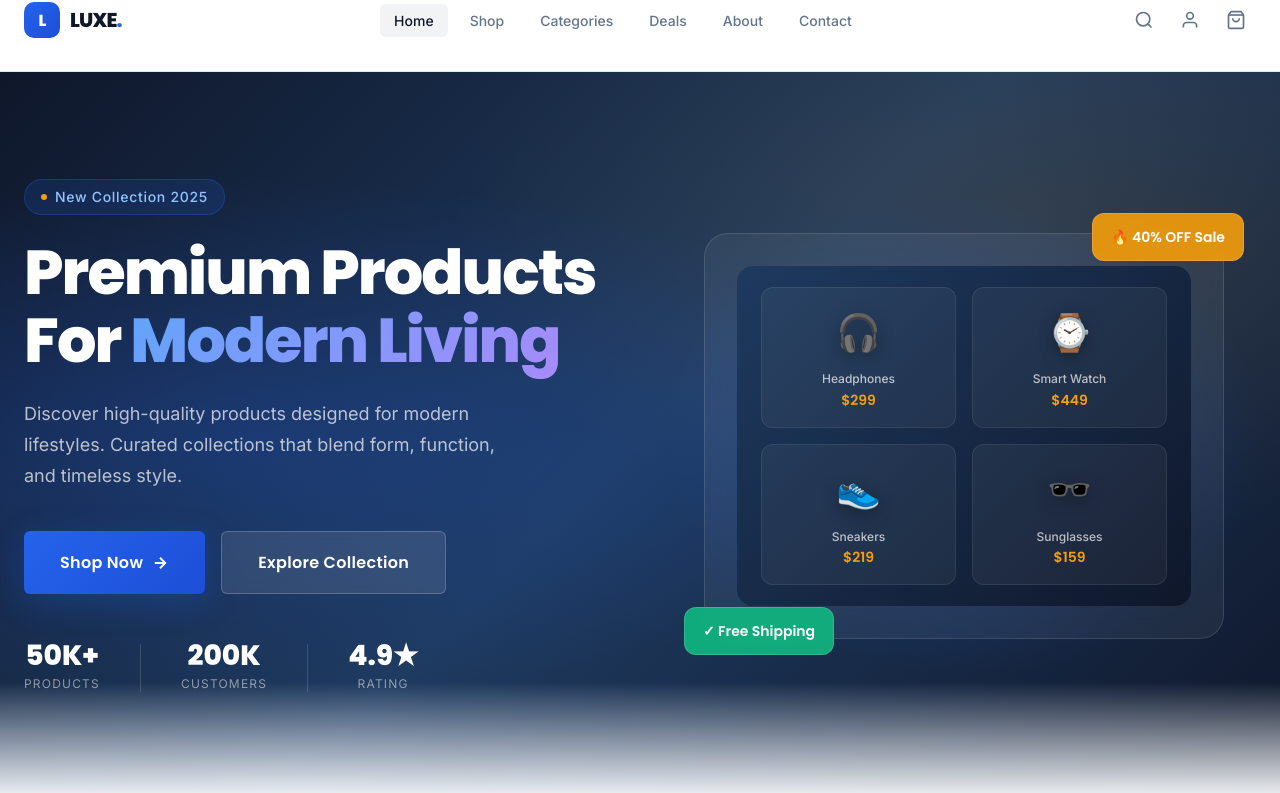
can navigate to Account page
The width and height of the screenshot is (1280, 793).
Click the button named "User account" at x=1190, y=20, box [1170,0,1210,40]
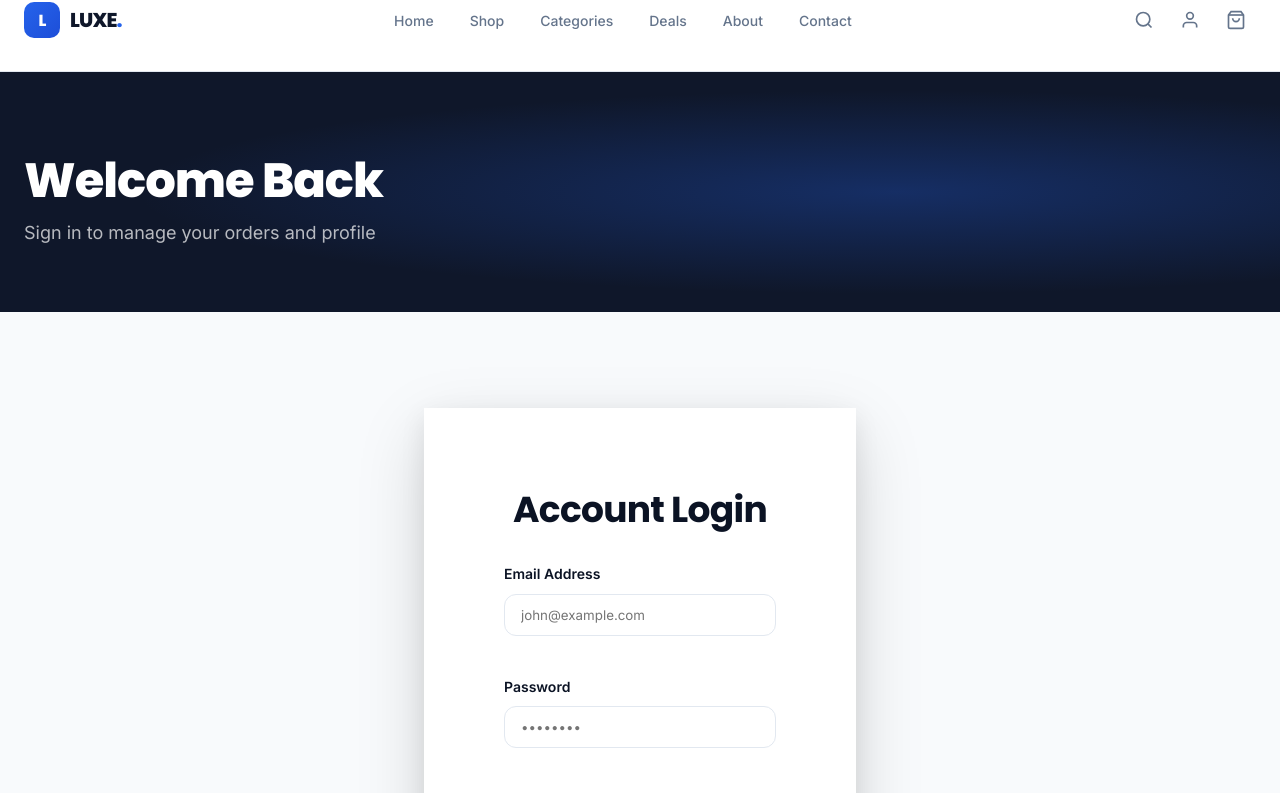
Expected: the heading "Account Login" is shown, [504,488,776,531]
